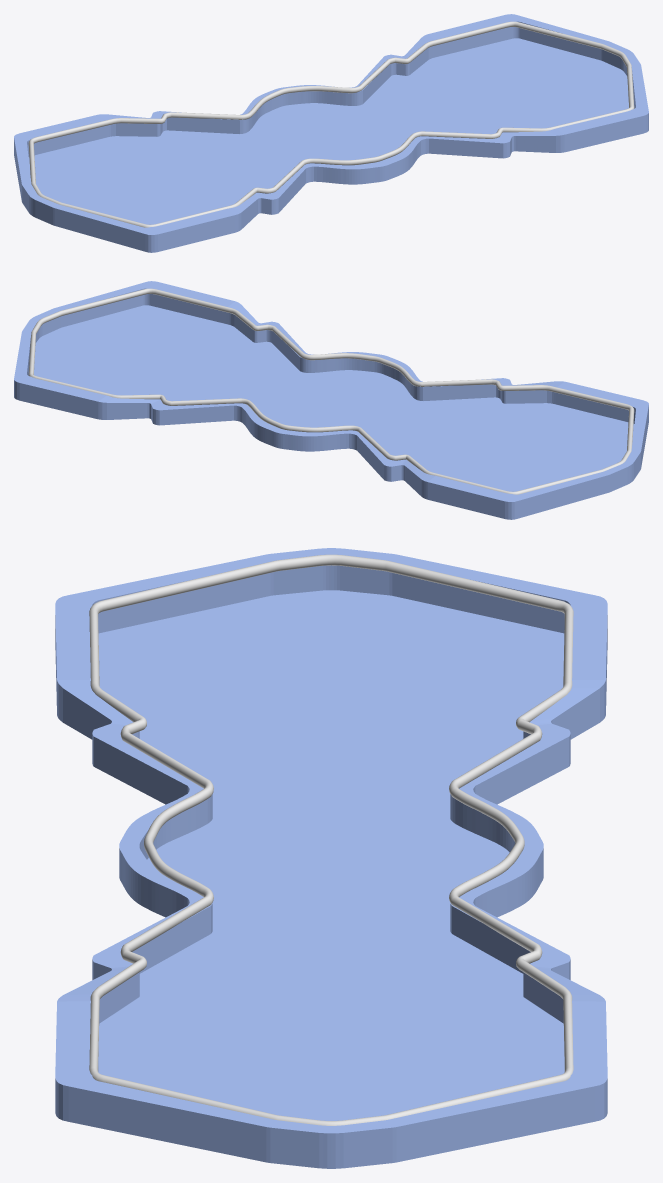
File: Table.fbx
3 views of the same model, one above another, from view 1: azimuth 30°, elevation 25°; view 2: azimuth 150°, elevation 25°; view 3: azimuth 270°, elevation 25° (orthographic). The views are drawn at different scales.
Visible parts, largest first — view 1: Cube.031; view 2: Cube.031; view 3: Cube.031.
Boxes of the visible parts, bbox=[...] form: Cube.031: bbox=[14, 14, 648, 252]; Cube.031: bbox=[14, 281, 648, 519]; Cube.031: bbox=[55, 548, 607, 1168].
Bounding box in the file's own units: 1378 × 41.65 × 550.
